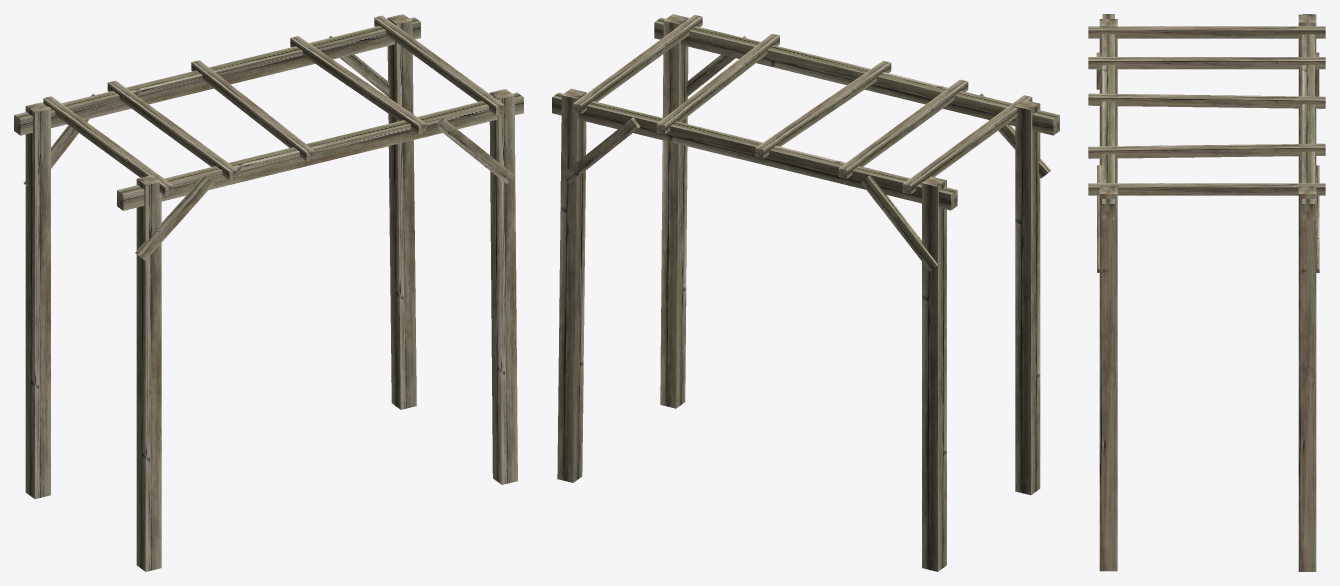
Rendered from trellisA.fbx.
3 views of the same model, side by side, from view 1: azimuth 30°, elevation 25°; view 2: azimuth 150°, elevation 25°; view 3: azimuth 270°, elevation 25° (orthographic). The views are drawn at different scales.
Visible parts, largest first — view 1: post_vert2, post_vert1, post_vert3, post_vert4, post_horiz1, post_horiz2, lath5, lath4, lath2, lath3, lath1, support2 (+2 smaller); view 2: post_vert1, post_vert4, post_vert2, post_vert3, post_horiz2, post_horiz1, lath3, lath4, lath2, lath5, lath1, support5 (+2 smaller); view 3: post_vert4, post_vert3, lath1, lath5, lath3, lath4, lath2, post_horiz1, post_horiz2, post_vert2, post_vert1, support4 (+1 smaller).
Part boxes in pixels (left/top/right/bottom): post_vert2: left=25, top=102, right=50, bottom=498; post_vert1: left=136, top=175, right=161, bottom=571; post_vert3: left=489, top=89, right=517, bottom=484; post_vert4: left=387, top=14, right=416, bottom=409; post_horiz1: left=117, top=92, right=523, bottom=210; post_horiz2: left=14, top=17, right=420, bottom=135; lath5: left=290, top=36, right=426, bottom=134; lath4: left=107, top=80, right=237, bottom=180; lath2: left=374, top=15, right=504, bottom=115; lath3: left=191, top=60, right=314, bottom=161; lath1: left=43, top=96, right=173, bottom=195; support2: left=135, top=175, right=214, bottom=260; post_vert1: left=1015, top=100, right=1040, bottom=495; post_vert4: left=557, top=88, right=586, bottom=482; post_vert2: left=922, top=176, right=946, bottom=571; post_vert3: left=660, top=14, right=688, bottom=408; post_horiz2: left=552, top=92, right=957, bottom=210; post_horiz1: left=654, top=17, right=1059, bottom=135; lath3: left=755, top=60, right=891, bottom=158; lath4: left=838, top=79, right=968, bottom=178; lath2: left=573, top=14, right=702, bottom=113; lath5: left=656, top=33, right=779, bottom=134; lath1: left=902, top=95, right=1032, bottom=194; support5: left=861, top=175, right=939, bottom=271; post_vert4: left=1298, top=186, right=1316, bottom=571; post_vert3: left=1099, top=186, right=1117, bottom=571; lath1: left=1088, top=26, right=1325, bottom=38; lath5: left=1088, top=143, right=1325, bottom=158; lath3: left=1088, top=93, right=1325, bottom=108; lath4: left=1088, top=57, right=1325, bottom=69; lath2: left=1088, top=183, right=1325, bottom=195; post_horiz1: left=1102, top=14, right=1114, bottom=219; post_horiz2: left=1302, top=14, right=1314, bottom=219; post_vert2: left=1298, top=14, right=1316, bottom=183; post_vert1: left=1099, top=19, right=1117, bottom=183; support4: left=1315, top=165, right=1319, bottom=272.
Size of the model in its own units: 2297 by 2118 by 1212.
Materials: 1 (1 with a texture image).
